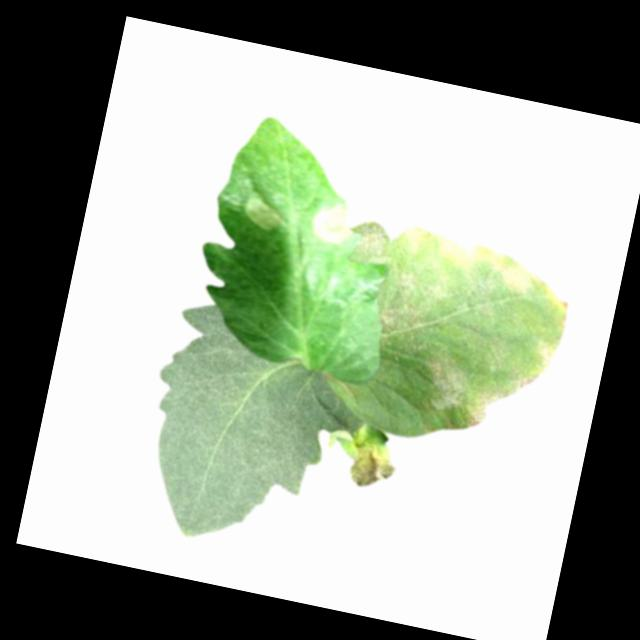Late_blight: (315, 210, 580, 443), (345, 441, 400, 497), (307, 201, 355, 248), (241, 193, 288, 234)
